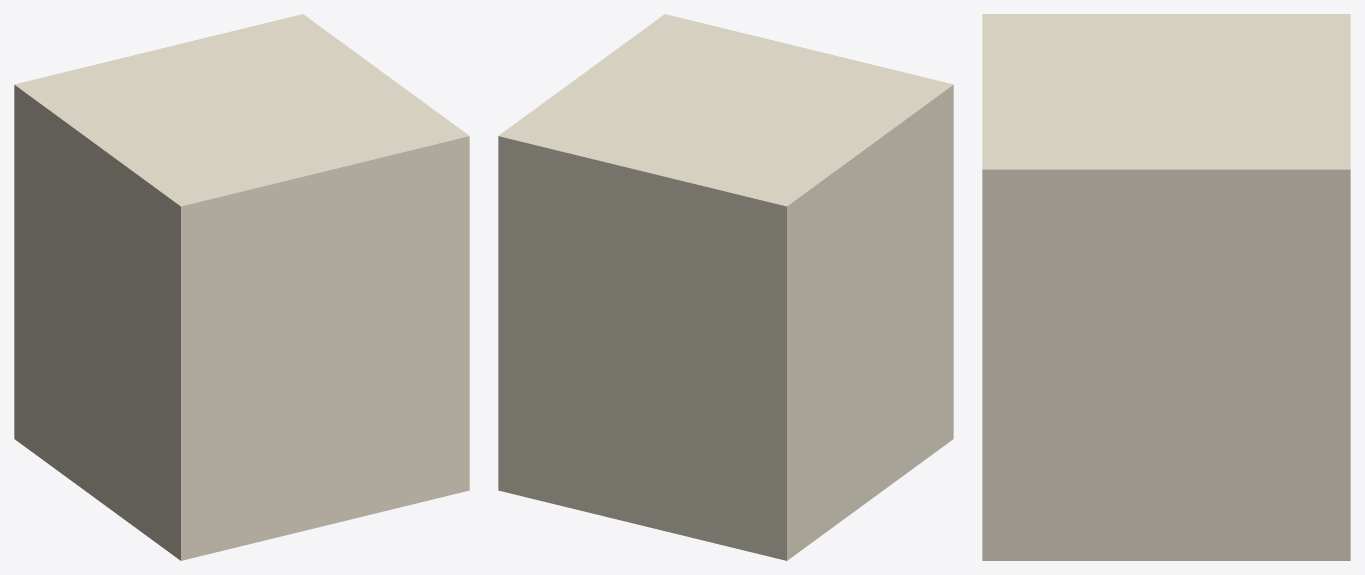
File: safari_manga_sup.glb
3 renders of one model, left to right at view 1: azimuth 30°, elevation 25°; view 2: azimuth 150°, elevation 25°; view 3: azimuth 270°, elevation 25°, orthographic. The views are drawn at different scales.
Visible parts, largest first — view 1: safari_manga_sup; view 2: safari_manga_sup; view 3: safari_manga_sup.
Boxes of the visible parts, x1,y1,x2,y2 form: safari_manga_sup: [14, 14, 469, 560]; safari_manga_sup: [498, 14, 953, 560]; safari_manga_sup: [982, 14, 1350, 560].
Size of the model in its own units: 0.29 by 0.34 by 0.29.
